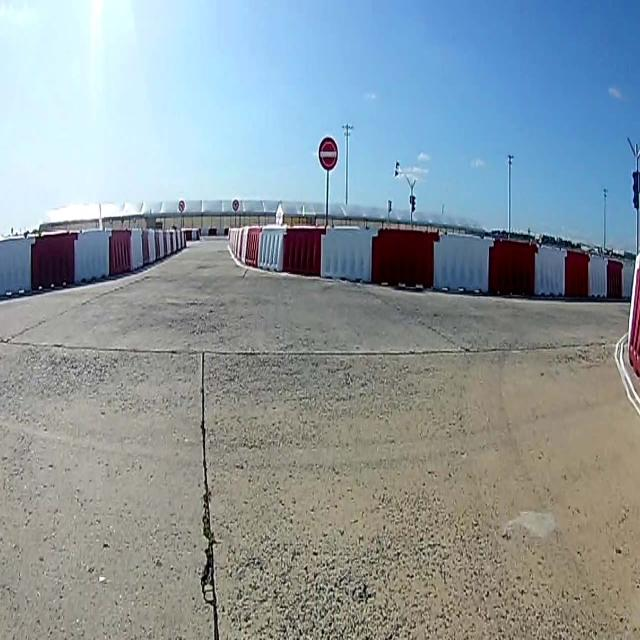girisyok: (321, 141, 337, 167)
